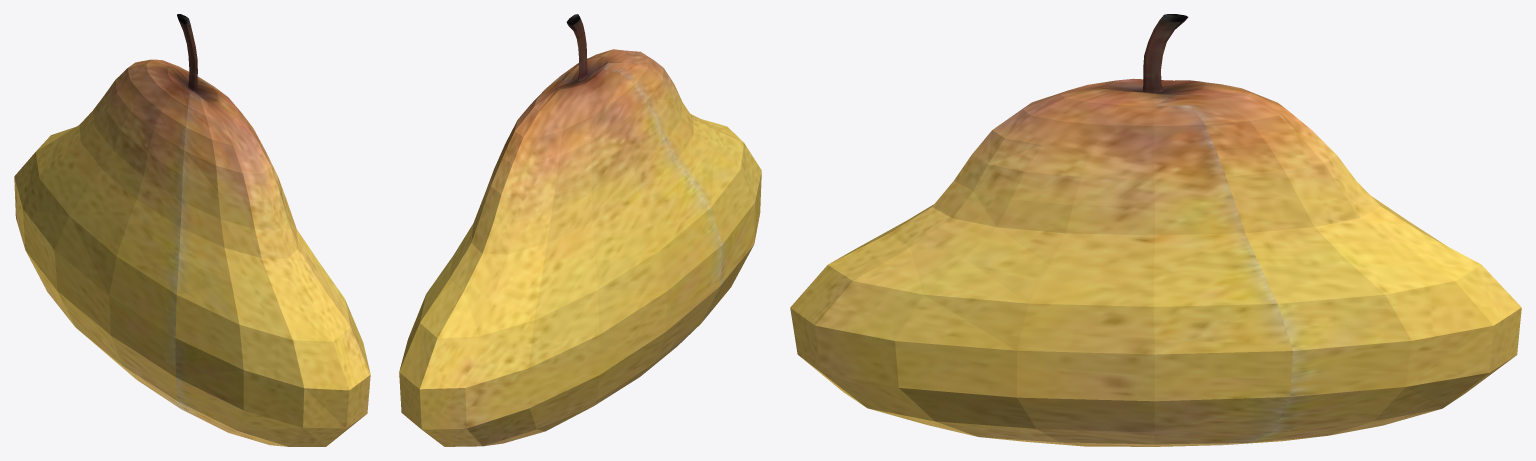
The model's file is pear_0.glb.
The picture shows the model from 3 angles, left to right: view 1: azimuth 30°, elevation 25°; view 2: azimuth 150°, elevation 25°; view 3: azimuth 270°, elevation 25°; orthographic projection. The views are drawn at different scales.
Visible parts, largest first — view 1: pear_0; view 2: pear_0; view 3: pear_0.
Part boxes in pixels (x1,y1,x2,y2): pear_0: (14, 14, 370, 446); pear_0: (399, 14, 761, 446); pear_0: (790, 14, 1521, 446).
Bounding box in the file's own units: 0.0738 × 0.1534 × 0.2431.
1 material, 1 textured.
